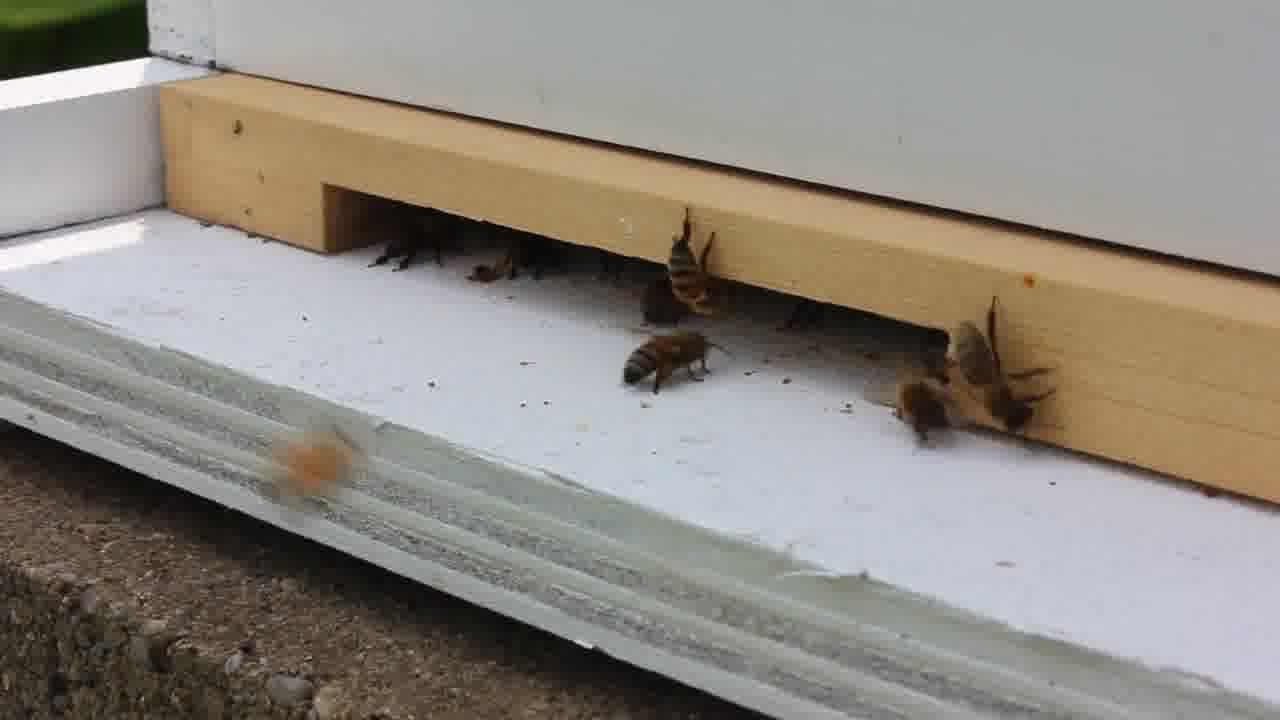pollen: (619, 329, 723, 397)
